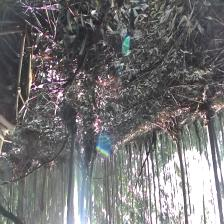trunk: (205, 119, 224, 219), (174, 141, 188, 219), (66, 132, 76, 216)
